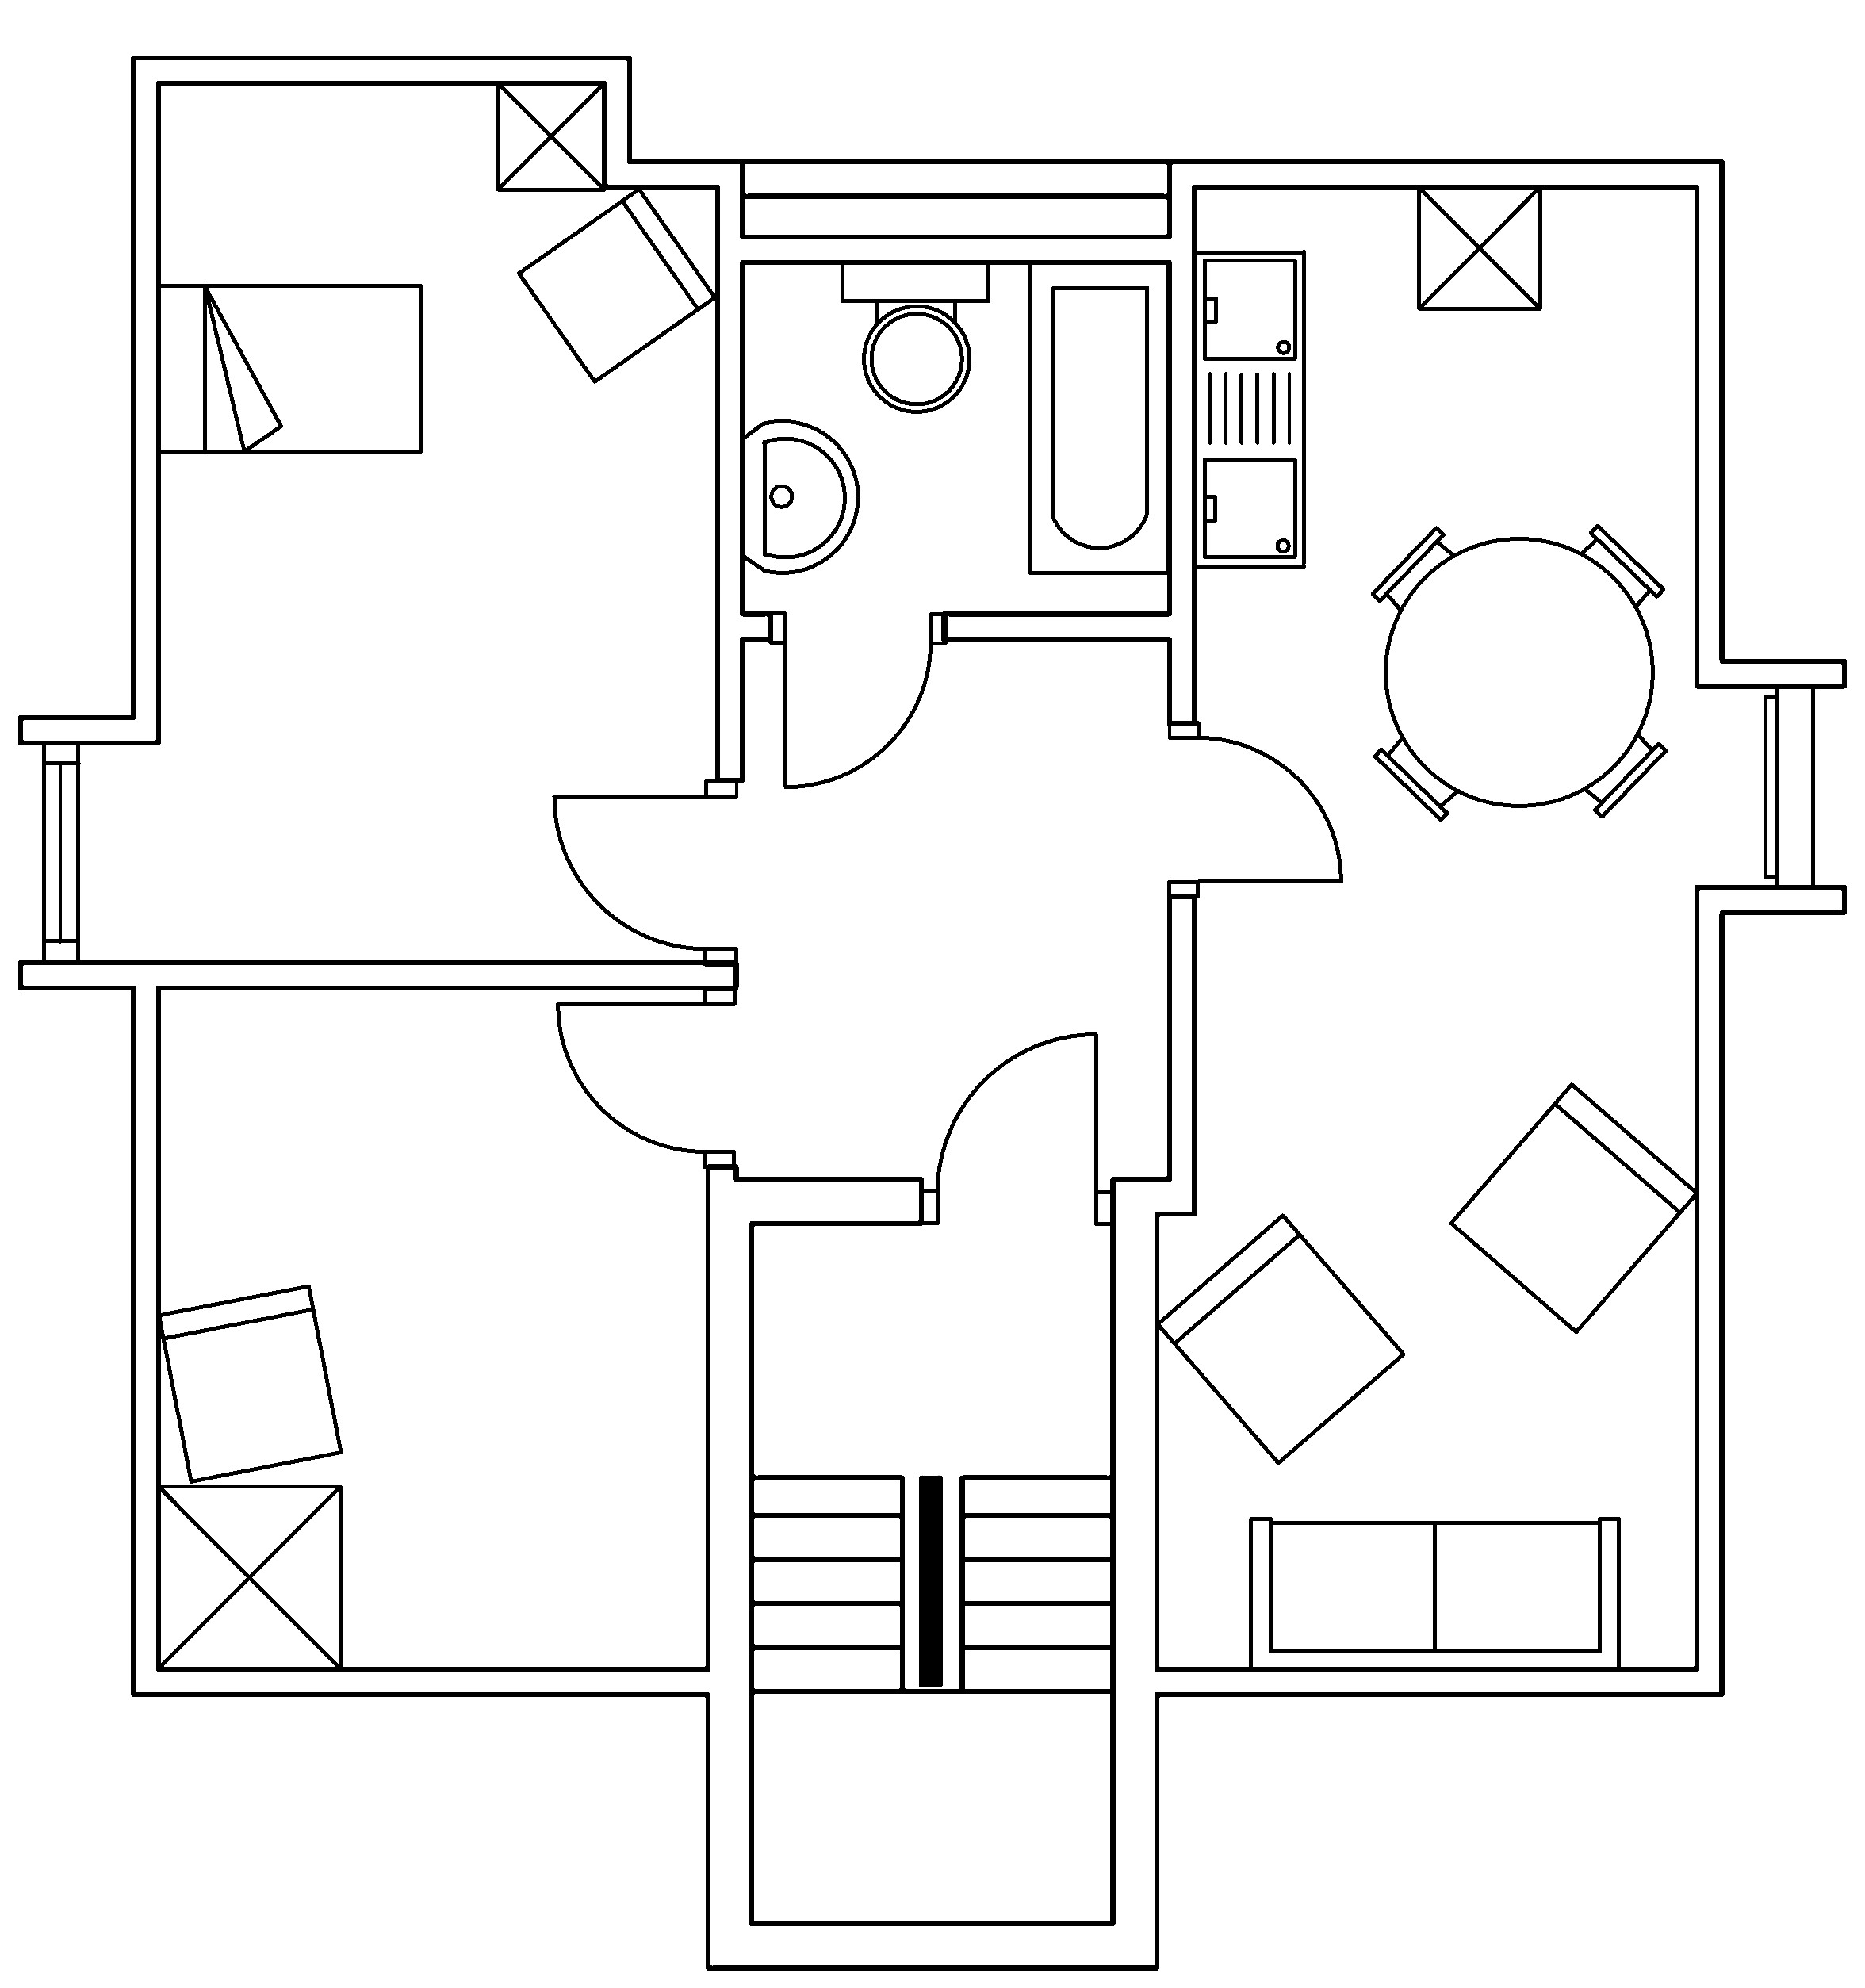bed: (154, 282, 422, 454)
coffee_table: (154, 1481, 342, 1671), (1416, 182, 1542, 310), (494, 79, 606, 191)
large_sink: (840, 258, 990, 412)
large_sofa: (1248, 1515, 1621, 1672)
round_table: (1369, 522, 1669, 822)
small_sink: (740, 419, 859, 573)
small_sofa: (1153, 1211, 1406, 1466), (1448, 1080, 1698, 1334), (515, 186, 717, 384), (156, 1282, 344, 1483)
tub: (1027, 258, 1171, 575)
twin_sink: (1192, 247, 1308, 570)
